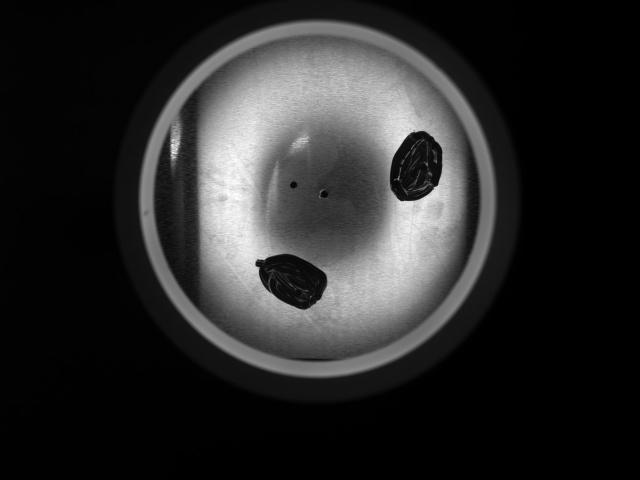zang_wu: (254, 250, 334, 312), (387, 129, 444, 205)
zhen_kong: (288, 178, 302, 192), (317, 188, 331, 202)
